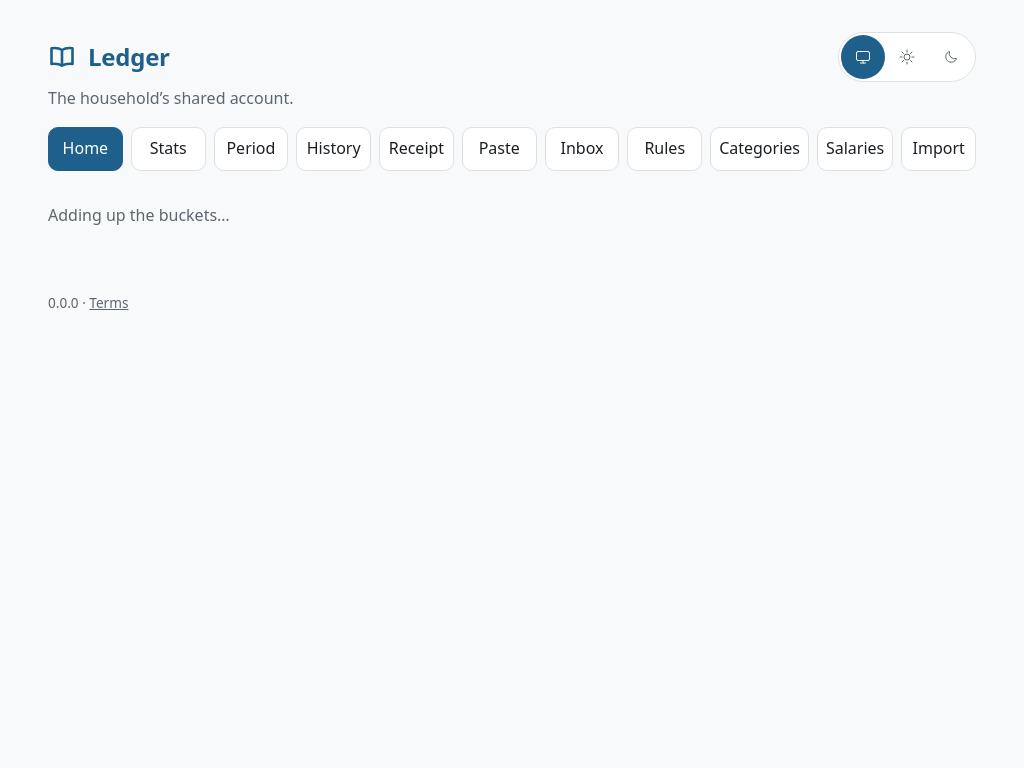
Scenario: the stats tab shows the history, with its one range above the charts
What coordinates should you click on to do the following:
click the button "Stats"
I would click on:
 (168, 149)
Its box is x1=131 y1=127 x2=206 y2=171.
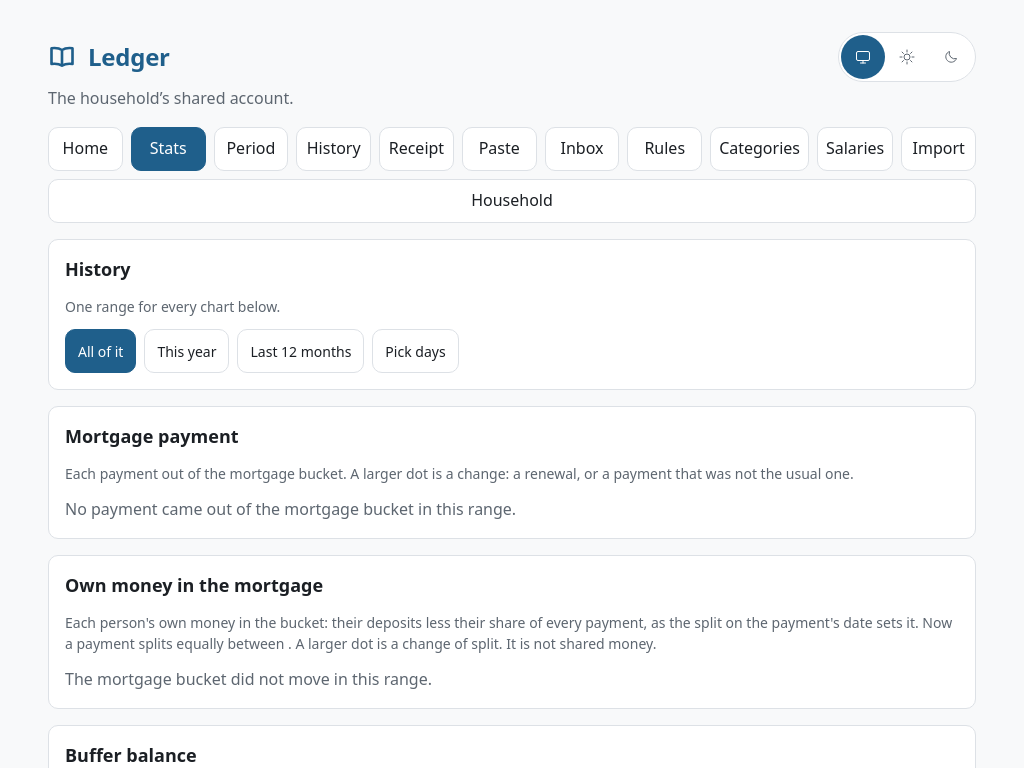
Expected: the heading "History" is shown, x1=65 y1=257 x2=131 y2=281
Expected: the text "No payment came out of the mortgage bucket in this range." is shown, x1=65 y1=498 x2=516 y2=520
